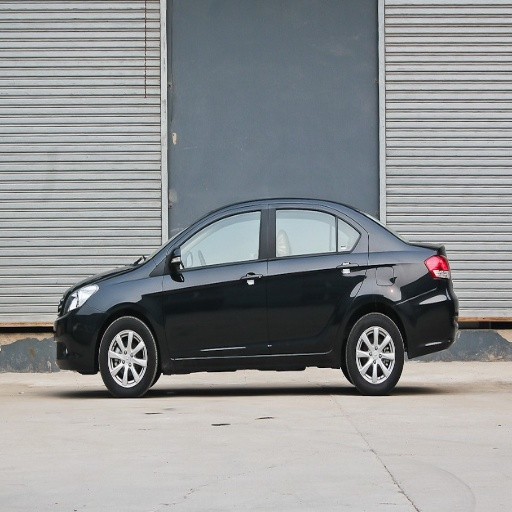back_left_door: (268, 205, 369, 349)
front_left_door: (161, 206, 269, 359)
